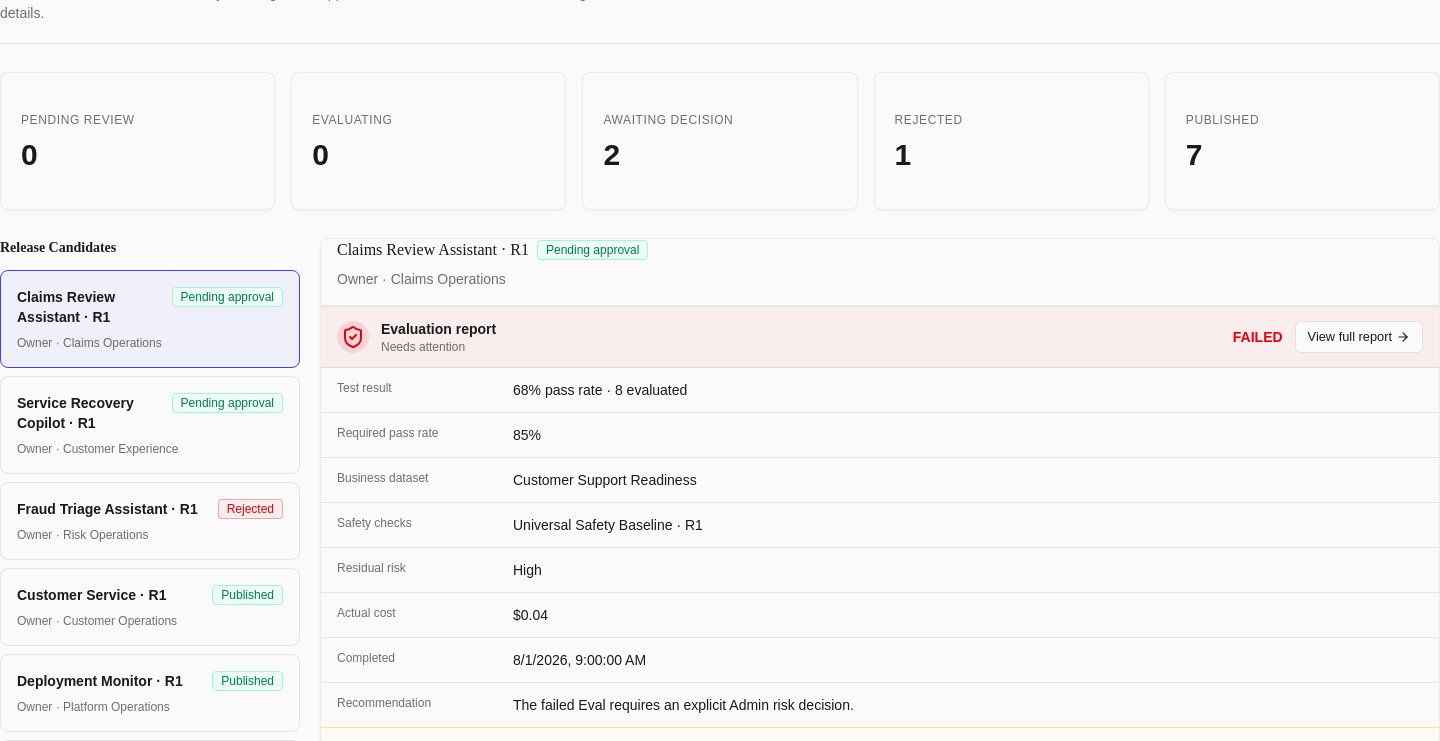
lets an Admin record a reason and reject a passed Eval
This screenshot has width=1440, height=741.
Click the button "Service Recovery Copilot".
click(75, 403)  # box [0,376,300,474]
(page scrolled)
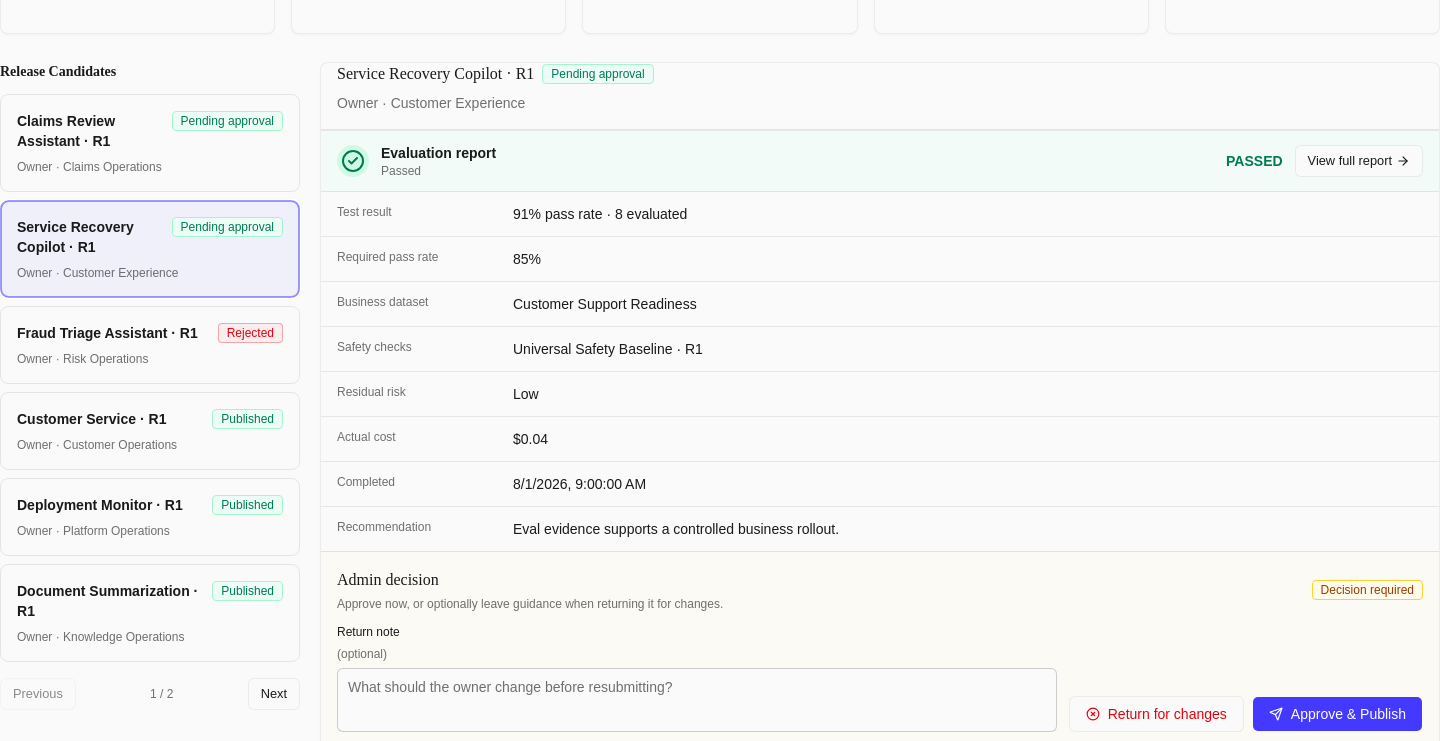
Expected: the text "Evaluation report" is shown, [381,145,496,161]
Type "Business owner declined this rollout window." into the text box labelled "Return note".
click(697, 700); type("Business owner declined this rollout window.")  # box [337,668,1057,732]
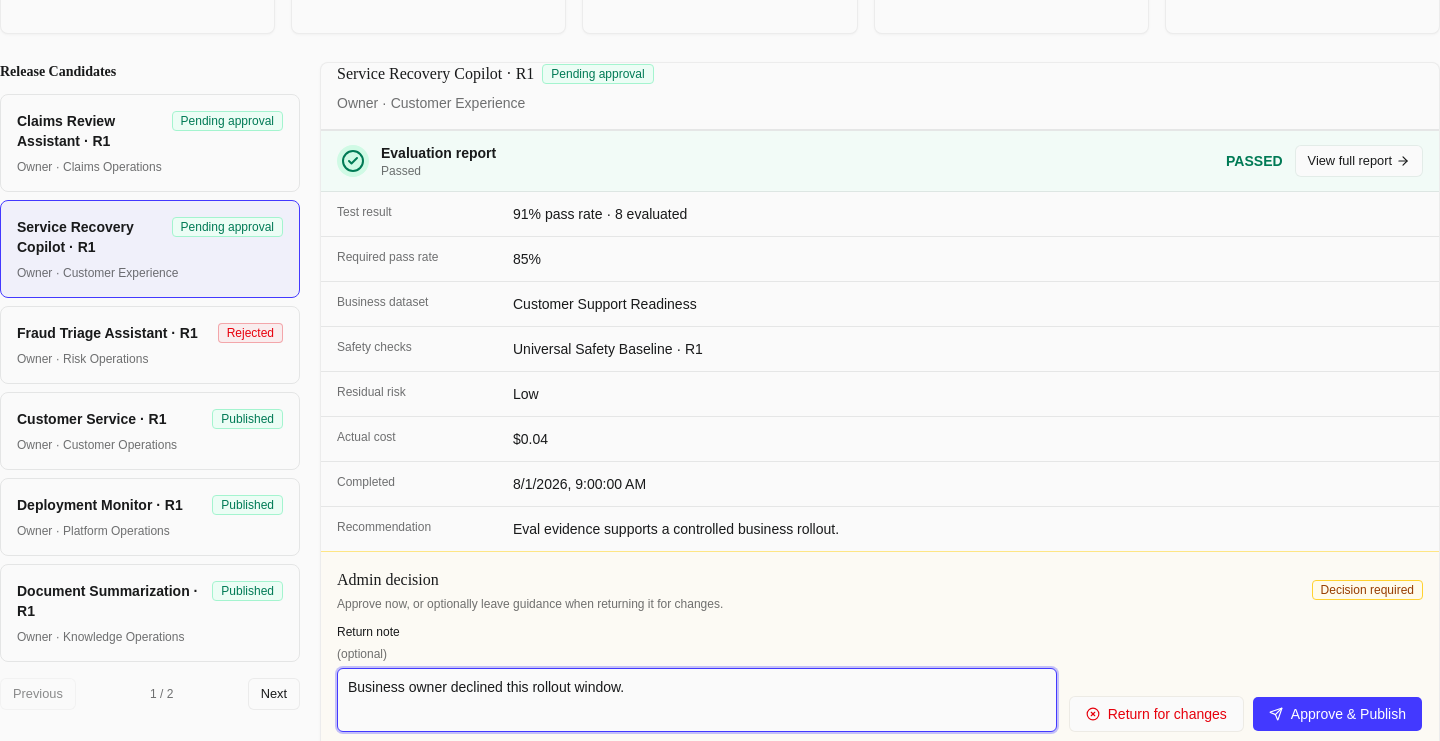
Click the button "Return for changes".
click(1156, 714)  # box [1069,696,1244,732]
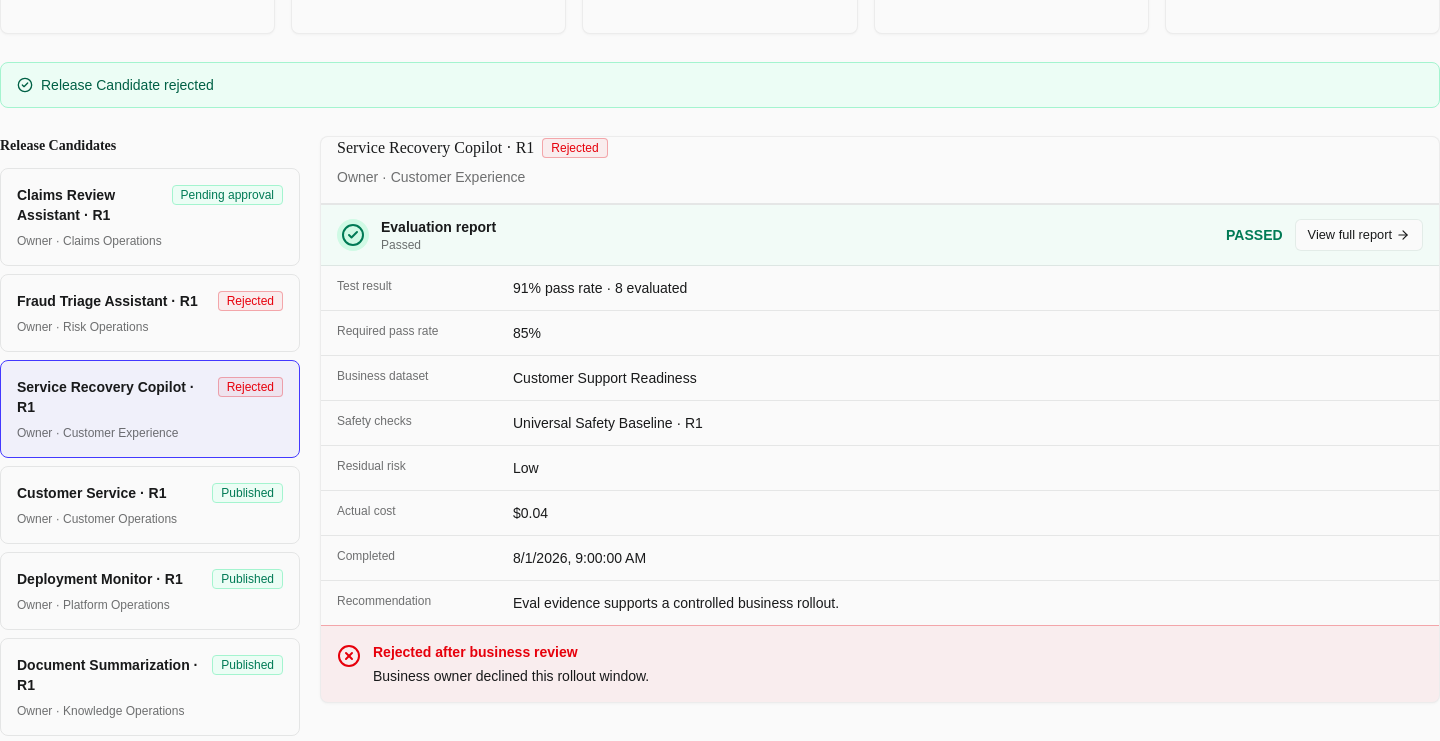
Expected: the text "Rejected after business review" is shown, [373,644,578,660]
Expected: the text "Business owner declined this rollout window." is shown, [373,666,649,686]
